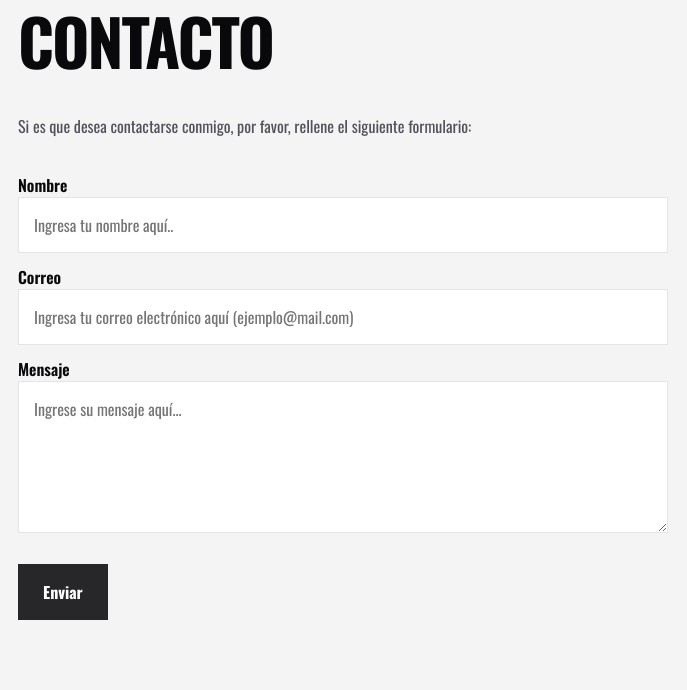
Test: Componente de Contacto › Debe mostrar error al enviar sin nombre.
This screenshot has width=687, height=690.
Click the button "Enviar". click: (63, 592)
box: x1=18 y1=564 x2=108 y2=620
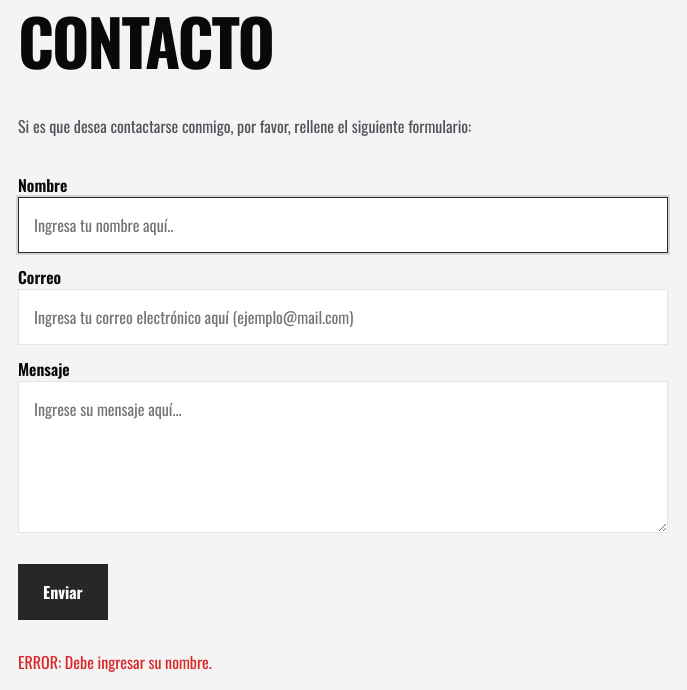
Check: the message reads "ERROR: Debe ingresar su nombre.", box x1=18 y1=650 x2=212 y2=674
